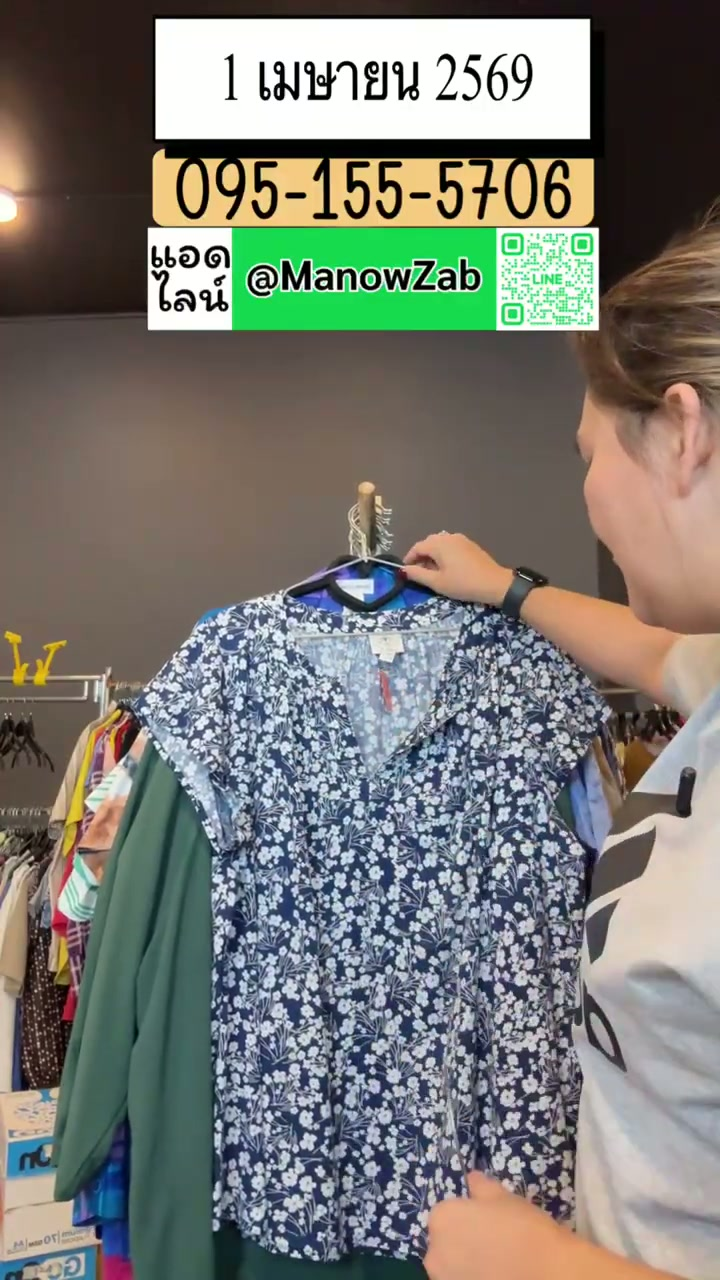display_shirt: (136, 595, 605, 1263)
